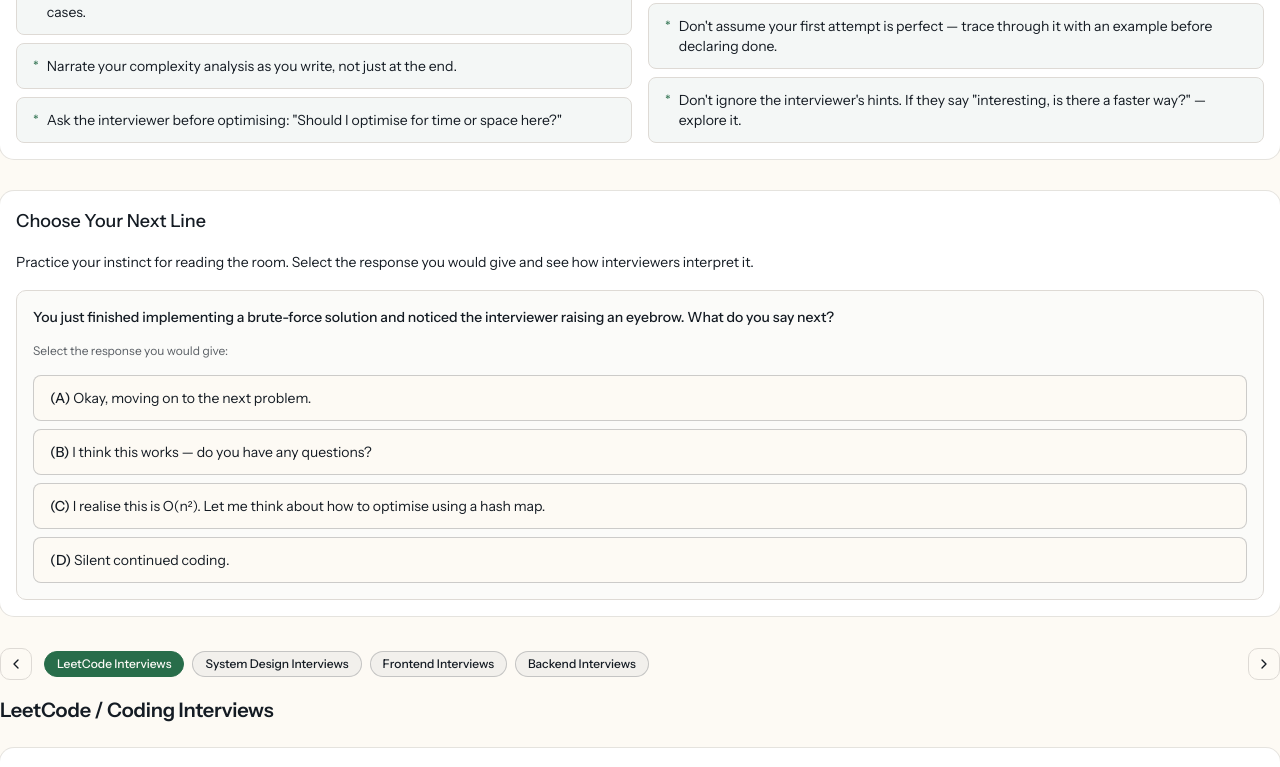
Test: TechnicalPage › clicking a choice in ChooseYourLineWidget displays feedback
This screenshot has width=1280, height=767.
(page scrolled)
Click the button with test id "choice-0" at (192, 398), box left=33, top=375, right=1247, bottom=421
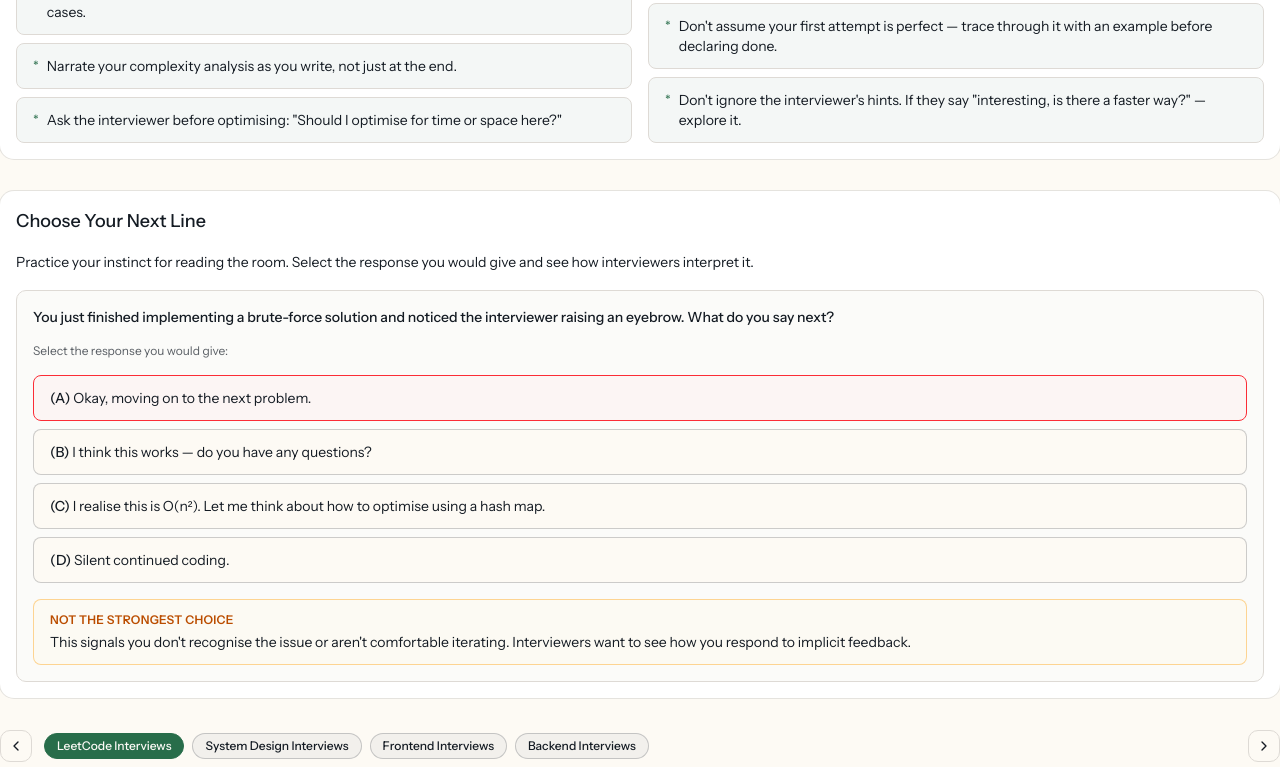
Expected: the element with test id "choice-feedback" is shown, left=33, top=599, right=1247, bottom=665
